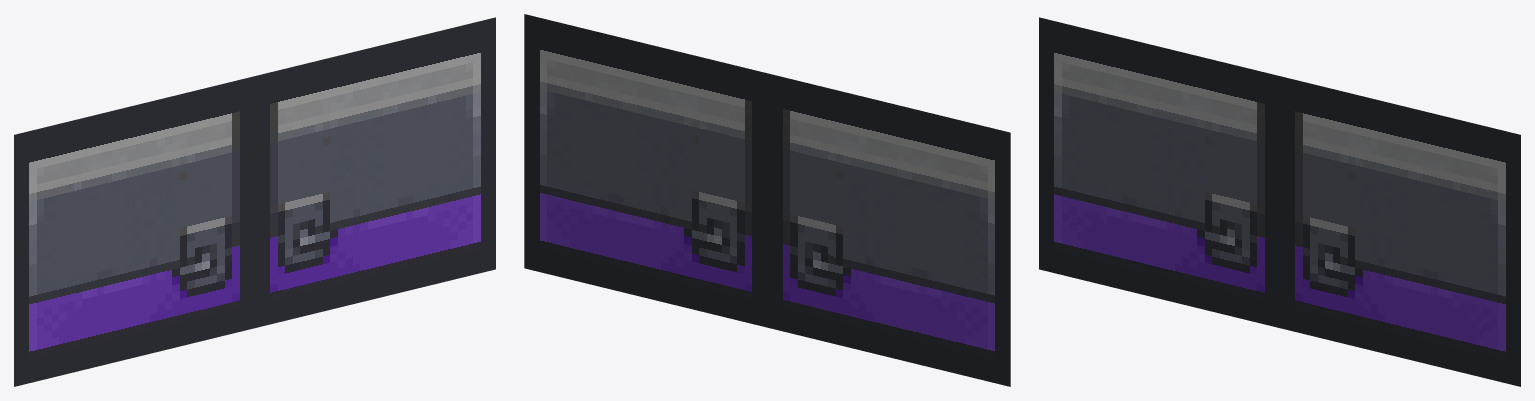
File: DoubleDoor_H_Purple_DownOnly.glb
The picture shows the model from 3 angles, left to right: view 1: azimuth 30°, elevation 25°; view 2: azimuth 150°, elevation 25°; view 3: azimuth 330°, elevation 25°; orthographic projection.
Parts seen in each view (by area): view 1: pPlane7, pPlane6; view 2: pPlane6, pPlane7; view 3: pPlane6, pPlane7.
Part boxes in pixels (left/top/right/bottom): pPlane7: left=14, top=76, right=254, bottom=386; pPlane6: left=255, top=17, right=495, bottom=327; pPlane6: left=524, top=14, right=767, bottom=327; pPlane7: left=767, top=73, right=1010, bottom=386; pPlane6: left=1280, top=76, right=1520, bottom=386; pPlane7: left=1039, top=17, right=1279, bottom=327.
Bounding box in the file's own units: 2 × 1.03 × 0.1.
2 materials, 2 textured.
